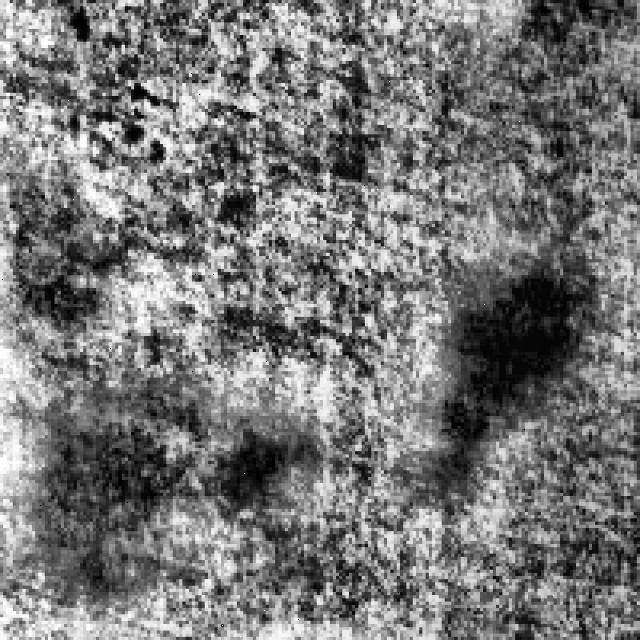Scratches: (32, 362, 221, 586), (451, 237, 595, 448), (3, 176, 125, 333), (211, 388, 323, 518)
